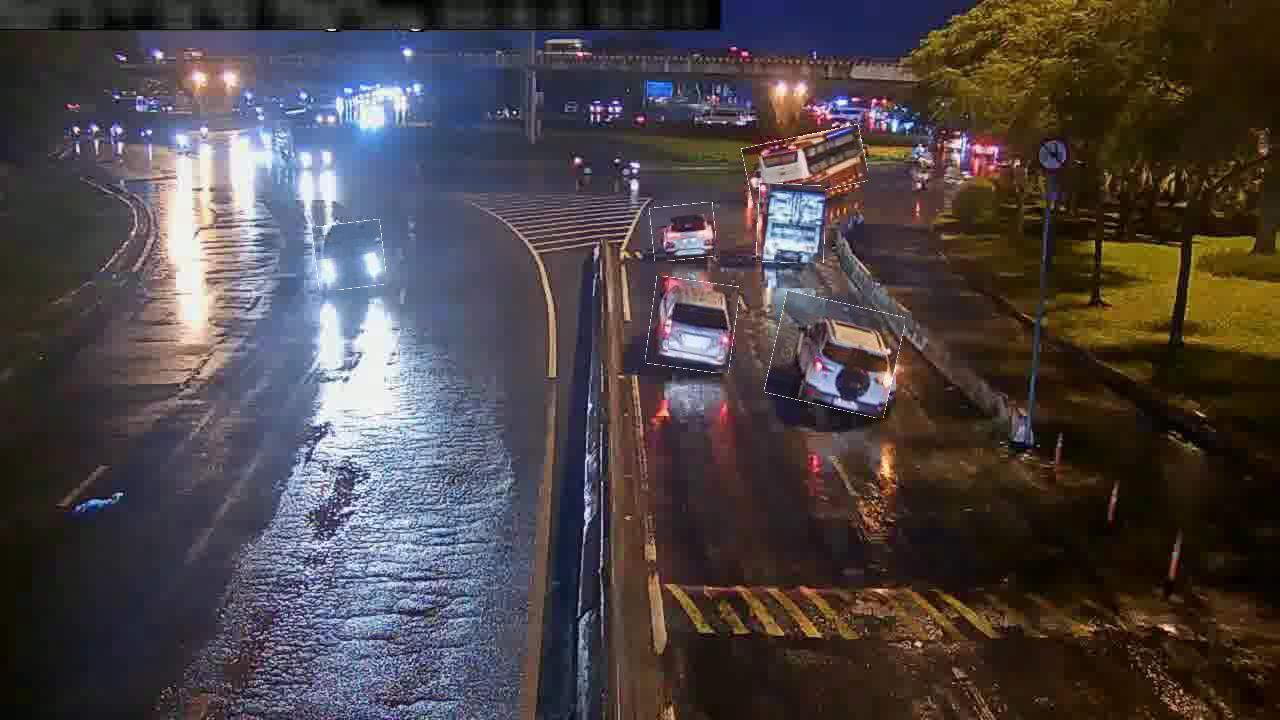14: (744, 130, 867, 199)
8: (757, 184, 826, 264)
container: (769, 297, 901, 413), (648, 278, 738, 372), (314, 221, 386, 290), (651, 204, 716, 260)
